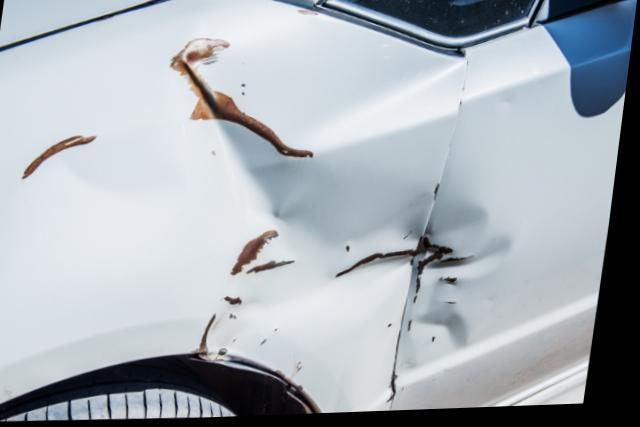dent: (42, 110, 436, 375), (415, 200, 520, 370)
